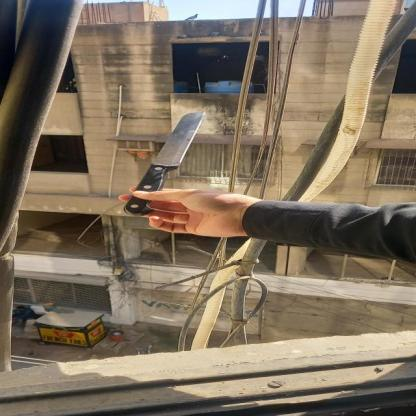Knife: (120, 105, 208, 220)
